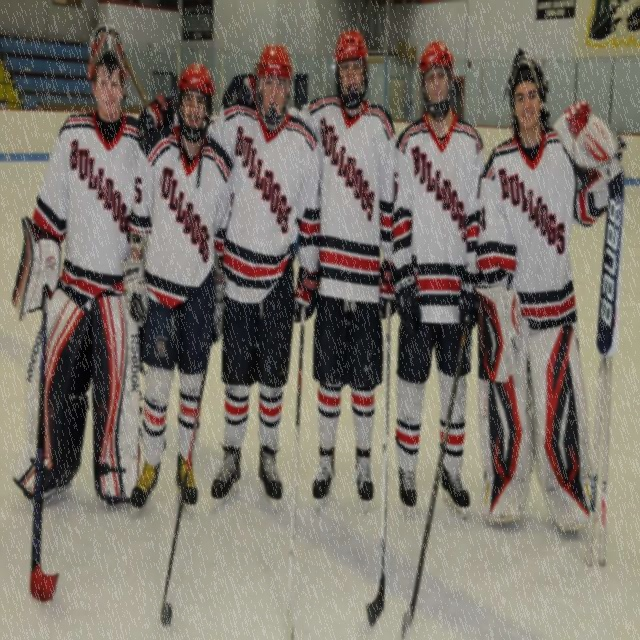pessoa: (474, 46, 630, 536), (14, 20, 152, 512), (119, 54, 242, 512), (205, 40, 322, 504), (290, 26, 398, 505), (388, 37, 490, 523)
